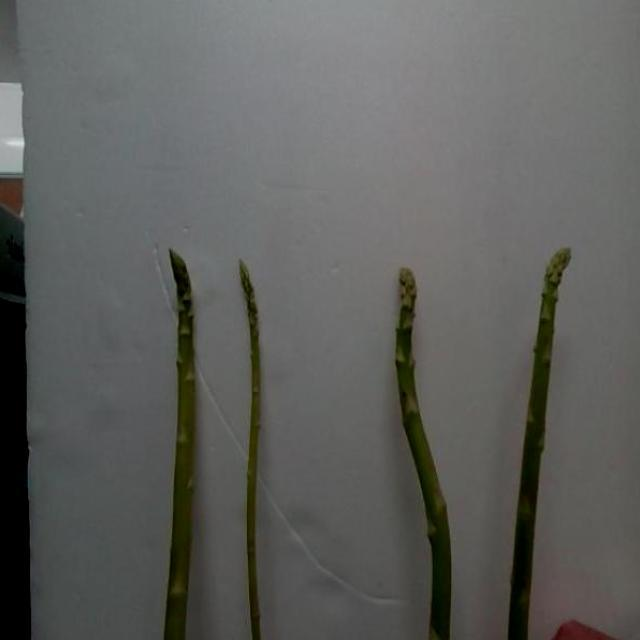aspargus: (508, 249, 572, 640), (394, 268, 451, 640), (164, 251, 199, 640), (237, 261, 264, 640)
